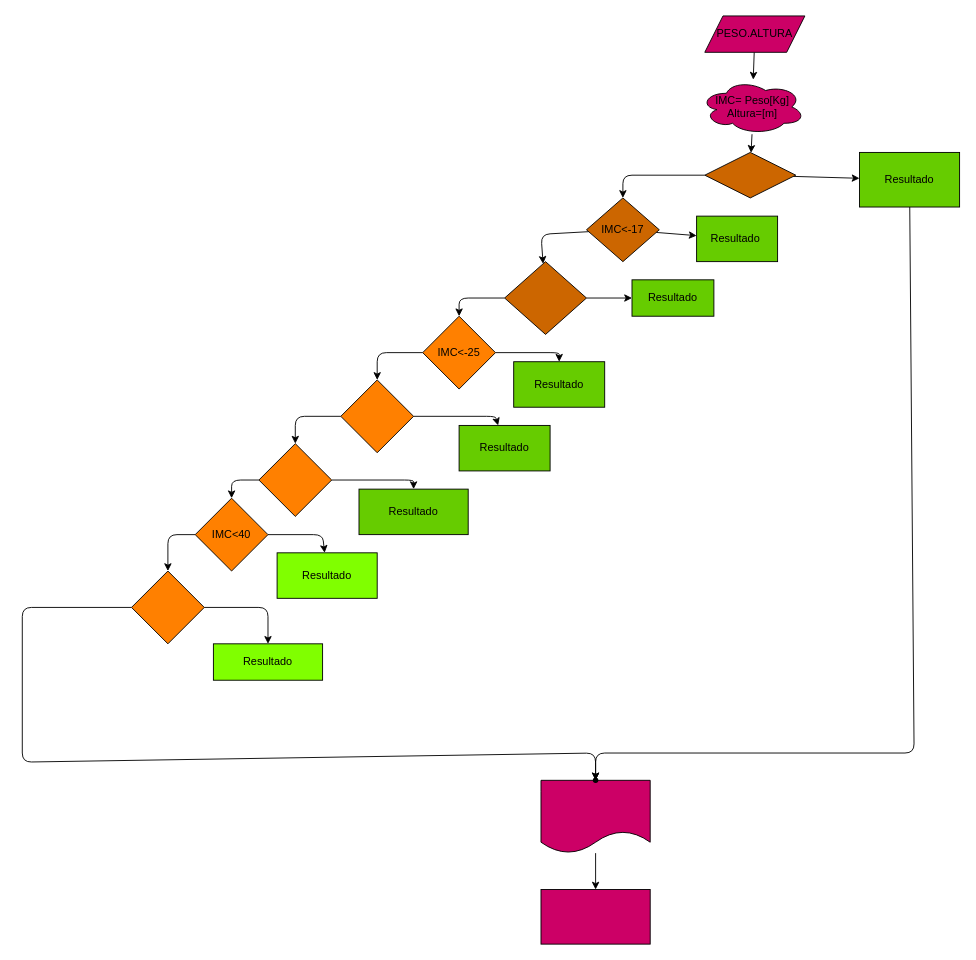
This 976x960 diagram has some shape labels left out. The box of each missing label's shape, as (x1, y1, x2, y2) in pixels:
IMC<-18: (504, 261, 586, 334)
IMC<-30: (340, 379, 414, 453)
IMC<16: (704, 152, 796, 198)
IMC<=35: (258, 443, 332, 516)
IMC>40: (131, 570, 204, 644)
PRINT (Resultado): (540, 779, 650, 853)
